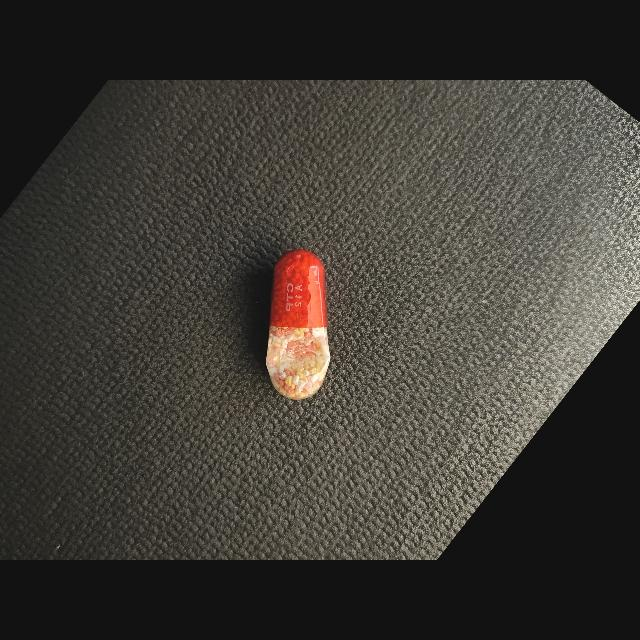Defective Capsule: (266, 250, 330, 400)
